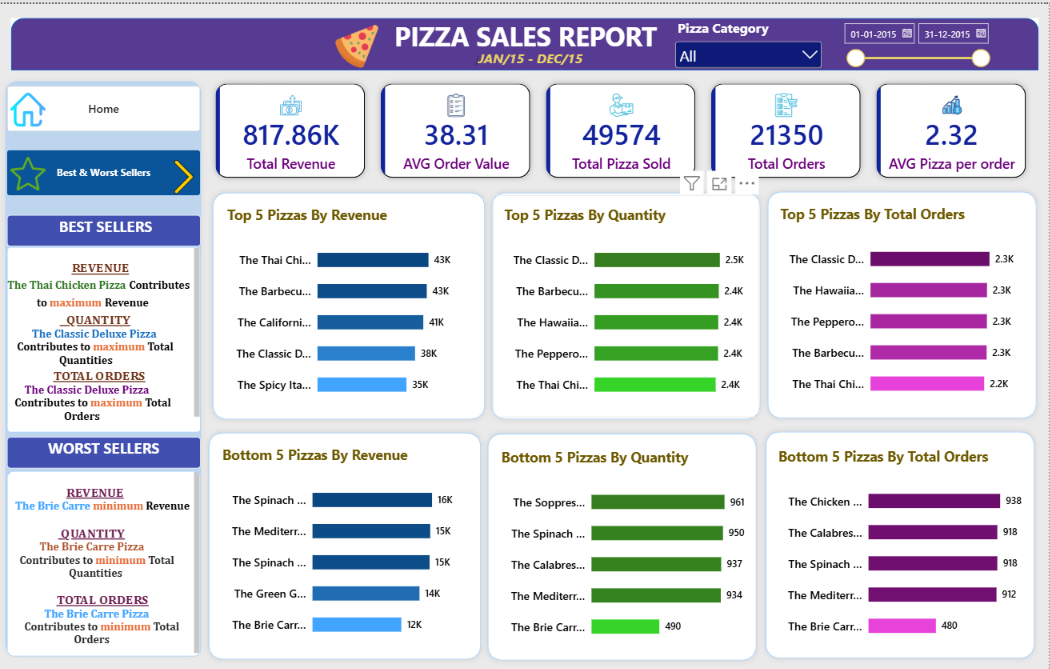

Layout of this report page (visuals, bound fields, positions):
{"tool":"powerbi","page":{"name":"Best & Worst Sellers","canvas":[1500,950],"ordinal":1},"visuals":[{"type":"cardVisual","fields":{"Data":["pizza_sales.Total Revenue","pizza_sales.AVG Order Value","pizza_sales.Total Pizza Sold","pizza_sales.Total Orders","pizza_sales.AVG Pizza per order"]},"box":[276.7,103.3,1223.8,156.1],"z":0},{"type":"shape","box":[16,20,1468,75],"z":1000},{"type":"textbox","box":[380,28,130,150],"z":2000},{"type":"textbox","box":[550,20,402,72],"z":3000},{"type":"textbox","box":[680,64,226,54],"z":4000},{"type":"image","box":[426,28,168,64],"z":5000},{"type":"shape","box":[295,261,405,340],"z":6000},{"type":"shape","box":[0,103.3,295,835],"z":16000},{"type":"textbox","box":[10,301.7,276.7,45],"z":17000},{"type":"textbox","box":[10,346.7,276.7,265],"z":18000},{"type":"textbox","box":[10,618.3,276.7,45],"z":19000},{"type":"textbox","box":[10,666.7,276.7,265],"z":20000},{"type":"slicer","fields":{"Values":["pizza_sales.pizza_category"]},"box":[960,21.7,218.3,70],"z":21000},{"type":"slicer","fields":{"Values":["pizza_sales.order_date"]},"box":[1198.3,23.3,218.3,70],"z":22000},{"type":"shape","box":[693.7,262,400,340],"z":22001},{"type":"shape","box":[1088,259.7,400,340],"z":22002},{"type":"shape","box":[289.7,604,405,340],"z":22003},{"type":"shape","box":[688.7,606.3,400,340],"z":22004},{"type":"shape","box":[1085,603.3,400,340],"z":22005},{"type":"barChart","title":"Top 5 Pizzas By Revenue","fields":{"Category":["pizza_sales.pizza_name"],"Y":["pizza_sales.Total Revenue"]},"box":[308.3,273.3,380,316.3],"z":22006},{"type":"barChart","title":"Bottom 5 Pizzas By Revenue","fields":{"Category":["pizza_sales.pizza_name"],"Y":["pizza_sales.Total Revenue"]},"box":[301.7,615,380,316.3],"z":22007},{"type":"barChart","title":"Top 5 Pizzas By Quantity","fields":{"Category":["pizza_sales.pizza_name"],"Y":["pizza_sales.Total Pizza Sold"]},"box":[705,273.3,380,316.3],"z":22008},{"type":"barChart","title":"Bottom 5 Pizzas By Quantity","fields":{"Category":["pizza_sales.pizza_name"],"Y":["pizza_sales.Total Pizza Sold"]},"box":[700,618.3,380,316.3],"z":22009},{"type":"barChart","title":"Top 5 Pizzas By Total Orders","fields":{"Category":["pizza_sales.pizza_name"],"Y":["pizza_sales.Total Orders"]},"box":[1098.3,271.7,380,316.3],"z":22010},{"type":"barChart","title":"Bottom 5 Pizzas By Total Orders","fields":{"Category":["pizza_sales.pizza_name"],"Y":["pizza_sales.Total Orders"]},"box":[1095,616.7,380,316.7],"z":22011},{"type":"pageNavigator","box":[10,208.3,276.7,65],"z":22012},{"type":"pageNavigator","box":[10,116.7,276.7,65],"z":22013},{"type":"image","box":[238.3,208.3,48.3,76.7],"z":22014},{"type":"image","box":[10,125,60,50],"z":22015},{"type":"image","box":[10,216.7,60,50],"z":22016}]}

Visuals, with their boxes in screenshot pixels (x1, y1, x2, y2), scaled from the page's 1500x950 canvas onto the 1050x669 screenshot:
cardVisual - pizza_sales.Total Revenue x pizza_sales.AVG Order Value: left=194, top=73, right=1049, bottom=183
shape: left=11, top=14, right=1039, bottom=67
textbox: left=266, top=20, right=357, bottom=125
textbox: left=385, top=14, right=666, bottom=65
textbox: left=476, top=45, right=634, bottom=83
image: left=298, top=20, right=416, bottom=65
shape: left=206, top=184, right=490, bottom=423
shape: left=0, top=73, right=206, bottom=661
textbox: left=7, top=212, right=201, bottom=244
textbox: left=7, top=244, right=201, bottom=431
textbox: left=7, top=435, right=201, bottom=467
textbox: left=7, top=469, right=201, bottom=656
slicer - pizza_sales.pizza_category: left=672, top=15, right=825, bottom=65
slicer - pizza_sales.order_date: left=839, top=16, right=992, bottom=66
shape: left=486, top=185, right=766, bottom=424
shape: left=762, top=183, right=1042, bottom=422
shape: left=203, top=425, right=486, bottom=665
shape: left=482, top=427, right=762, bottom=666
shape: left=760, top=425, right=1040, bottom=664
"Top 5 Pizzas By Revenue" barChart: left=216, top=192, right=482, bottom=415
"Bottom 5 Pizzas By Revenue" barChart: left=211, top=433, right=477, bottom=656
"Top 5 Pizzas By Quantity" barChart: left=493, top=192, right=760, bottom=415
"Bottom 5 Pizzas By Quantity" barChart: left=490, top=435, right=756, bottom=658
"Top 5 Pizzas By Total Orders" barChart: left=769, top=191, right=1035, bottom=414
"Bottom 5 Pizzas By Total Orders" barChart: left=766, top=434, right=1032, bottom=657
pageNavigator: left=7, top=147, right=201, bottom=192
pageNavigator: left=7, top=82, right=201, bottom=128
image: left=167, top=147, right=201, bottom=201
image: left=7, top=88, right=49, bottom=123
image: left=7, top=153, right=49, bottom=188
